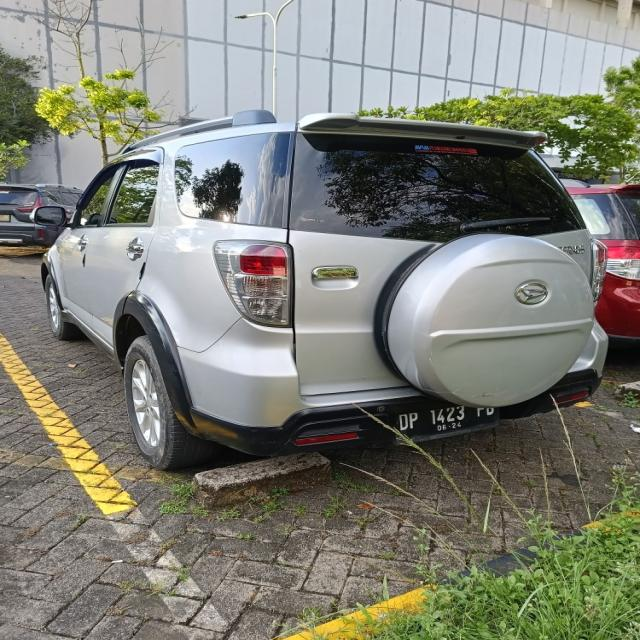plates: (391, 402, 504, 444)
